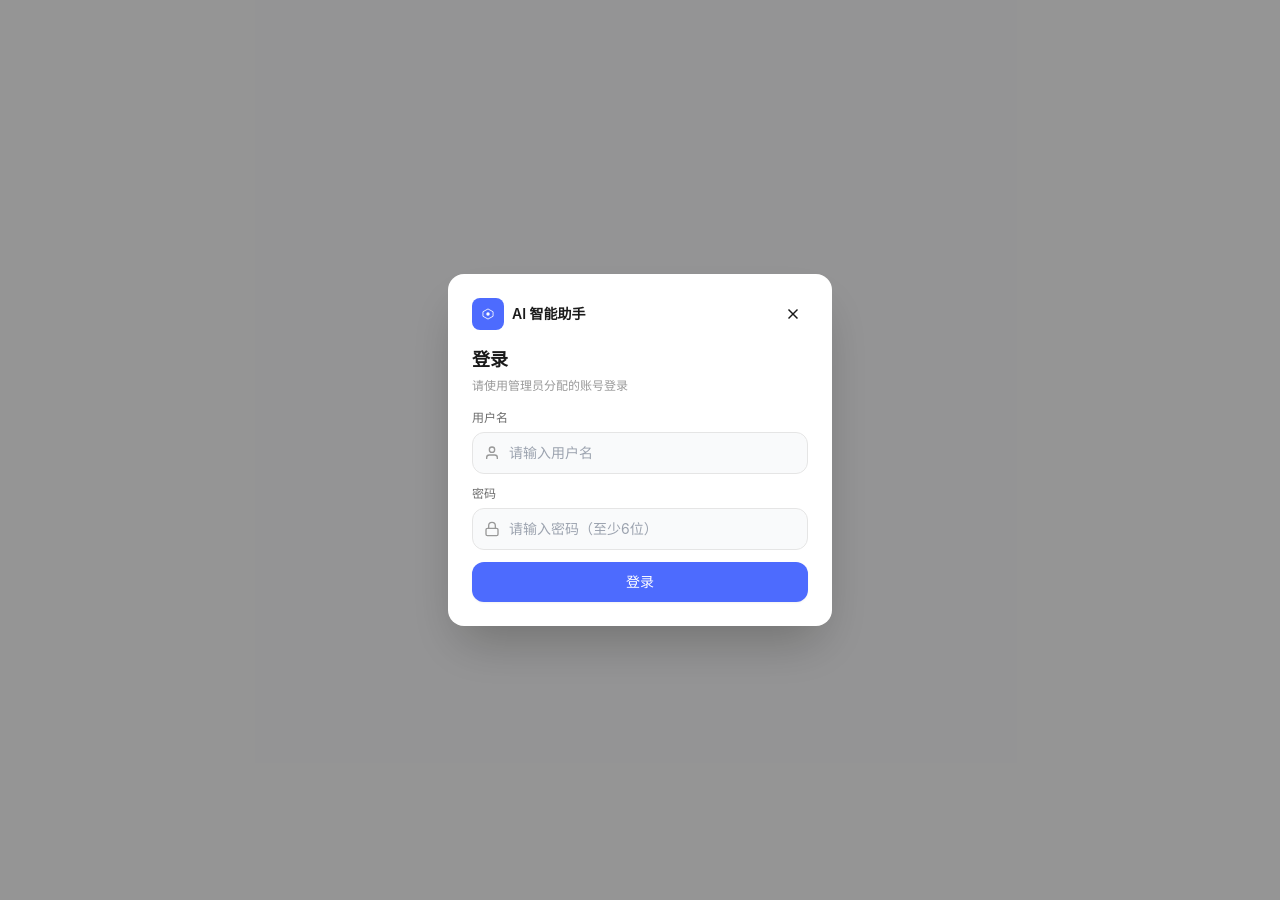
Test: AuthModal › 空用户名报错
What coordinates should you click on to do the following:
click the button "登录"
I would click on:
 (640, 582)
Its box is [472,562,808,602].
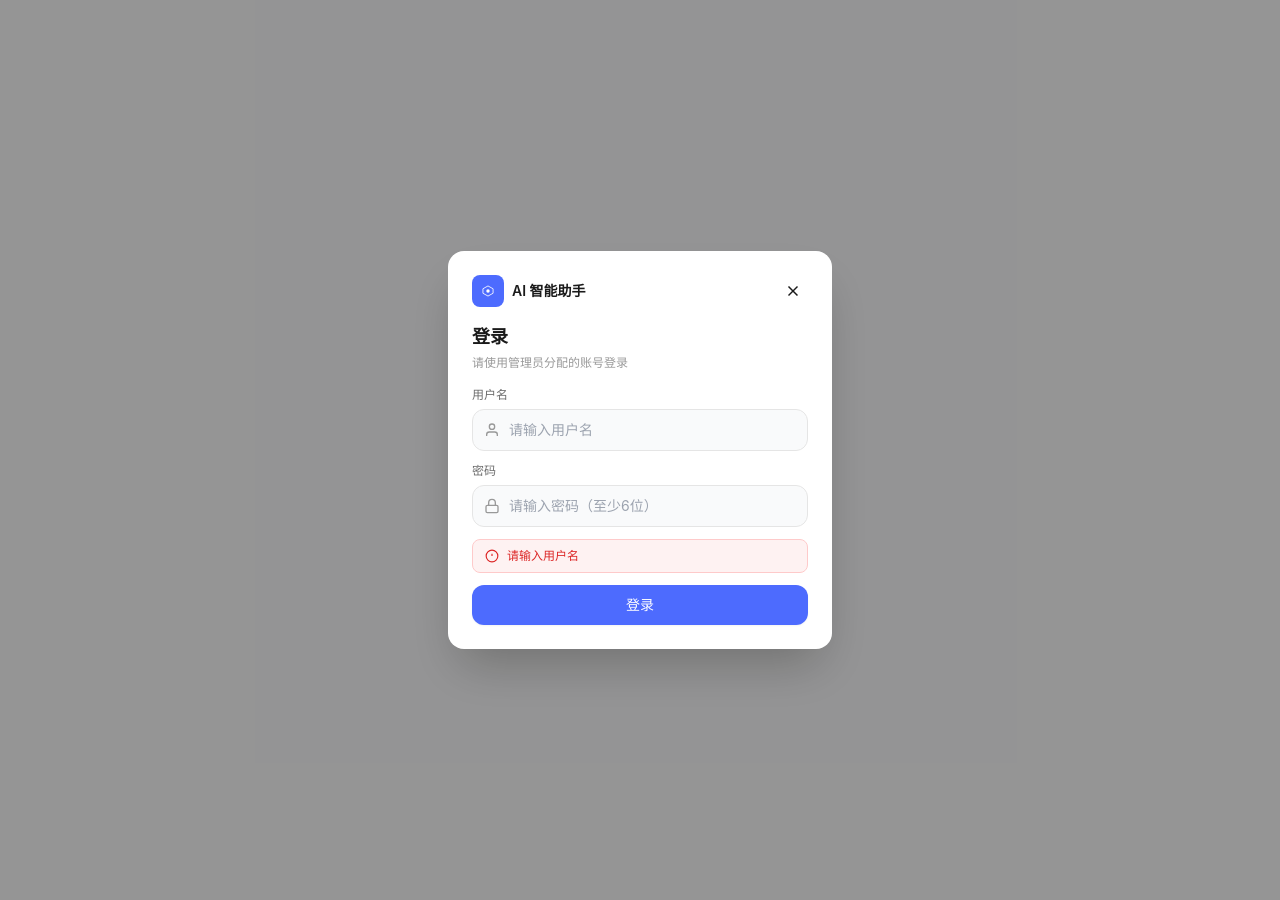
Result: the text "请输入用户名" is shown at [472,539,808,573]
